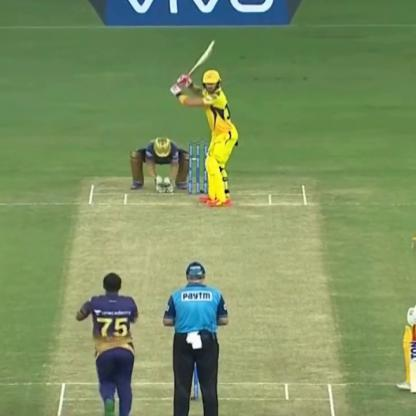bat: (182, 40, 217, 89)
pitch: (46, 174, 348, 416)
